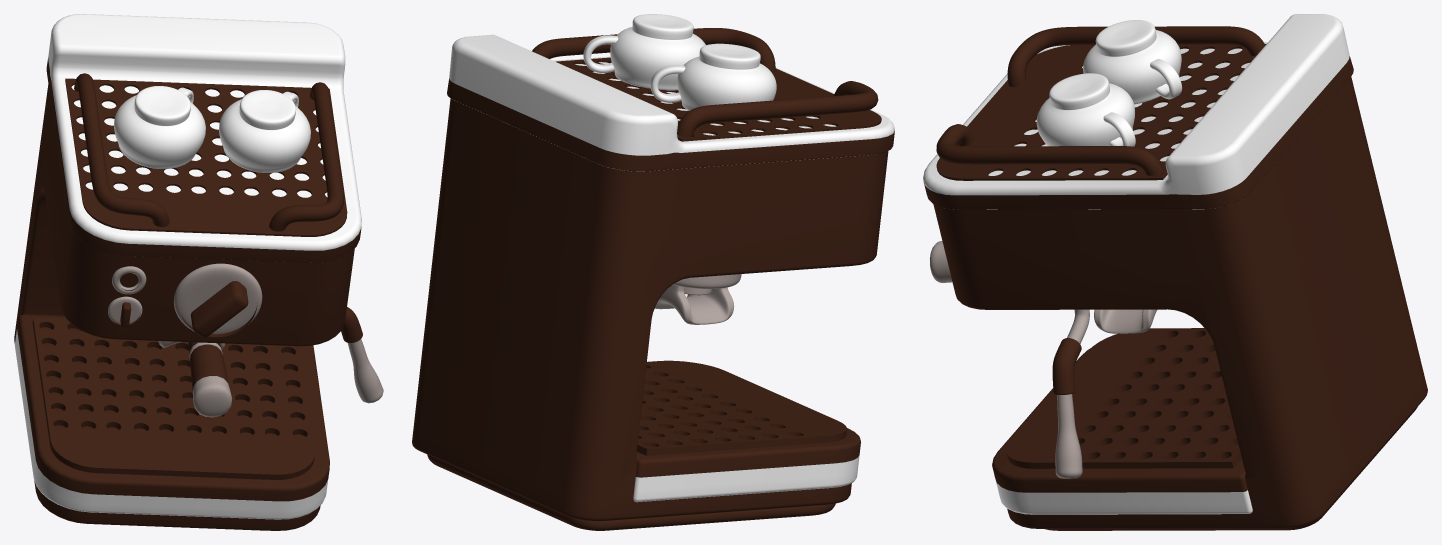
Rendered from Machine-Expresso.glb.
3 renders of one model, left to right at view 1: azimuth 30°, elevation 25°; view 2: azimuth 150°, elevation 25°; view 3: azimuth 270°, elevation 25°, orthographic. The views are drawn at different scales.
Visible parts, largest first — view 1: Cube.021, Circle.066, Cube.019, Circle.064, Cube.020, NurbsPath.003, Circle.071, Circle.072, Circle.062, Cube.024, Cube.026, NurbsPath.004 (+4 smaller); view 2: Cube.019, Cube.021, Circle.066, Cube.020, NurbsPath.003, Circle.064, Circle.071, Circle.072, Cube.022, Plane.005, Circle.068, NurbsPath.006 (+1 smaller); view 3: Cube.019, Cube.021, Circle.066, Circle.064, Cube.020, NurbsPath.003, Circle.072, Circle.071, NurbsPath.004, Plane.005, NurbsPath.005, Cube.022 (+3 smaller).
Boxes of the visible parts, x1,y1,x2,y2 form: Cube.021: [46, 14, 361, 262]; Circle.066: [32, 317, 314, 479]; Cube.019: [14, 84, 354, 530]; Circle.064: [65, 78, 347, 236]; Cube.020: [14, 315, 329, 519]; NurbsPath.003: [74, 73, 344, 231]; Circle.071: [114, 86, 205, 168]; Circle.072: [219, 90, 310, 172]; Circle.062: [174, 263, 262, 334]; Cube.024: [190, 281, 248, 337]; Cube.026: [189, 342, 232, 417]; NurbsPath.004: [347, 339, 383, 403]; Cube.019: [412, 98, 888, 521]; Cube.021: [447, 34, 894, 171]; Circle.066: [636, 360, 846, 455]; Cube.020: [633, 428, 860, 502]; NurbsPath.003: [532, 28, 878, 137]; Circle.064: [556, 57, 881, 141]; Circle.071: [677, 43, 776, 110]; Circle.072: [610, 14, 705, 90]; Cube.022: [427, 454, 835, 530]; Plane.005: [655, 285, 734, 324]; Circle.068: [672, 274, 741, 288]; NurbsPath.006: [650, 65, 685, 102]; Cube.019: [933, 77, 1427, 528]; Cube.021: [923, 14, 1353, 209]; Circle.066: [1006, 328, 1241, 468]; Circle.064: [936, 44, 1266, 180]; Cube.020: [992, 337, 1252, 514]; NurbsPath.003: [936, 26, 1265, 175]; Circle.072: [1036, 73, 1134, 146]; Circle.071: [1083, 20, 1181, 104]; NurbsPath.004: [1055, 309, 1089, 478]; Plane.005: [1094, 309, 1157, 333]; NurbsPath.005: [1052, 338, 1081, 394]; Cube.022: [1045, 407, 1417, 530].
Bounding box in the file's own units: 4.54 × 5.6 × 5.55.
